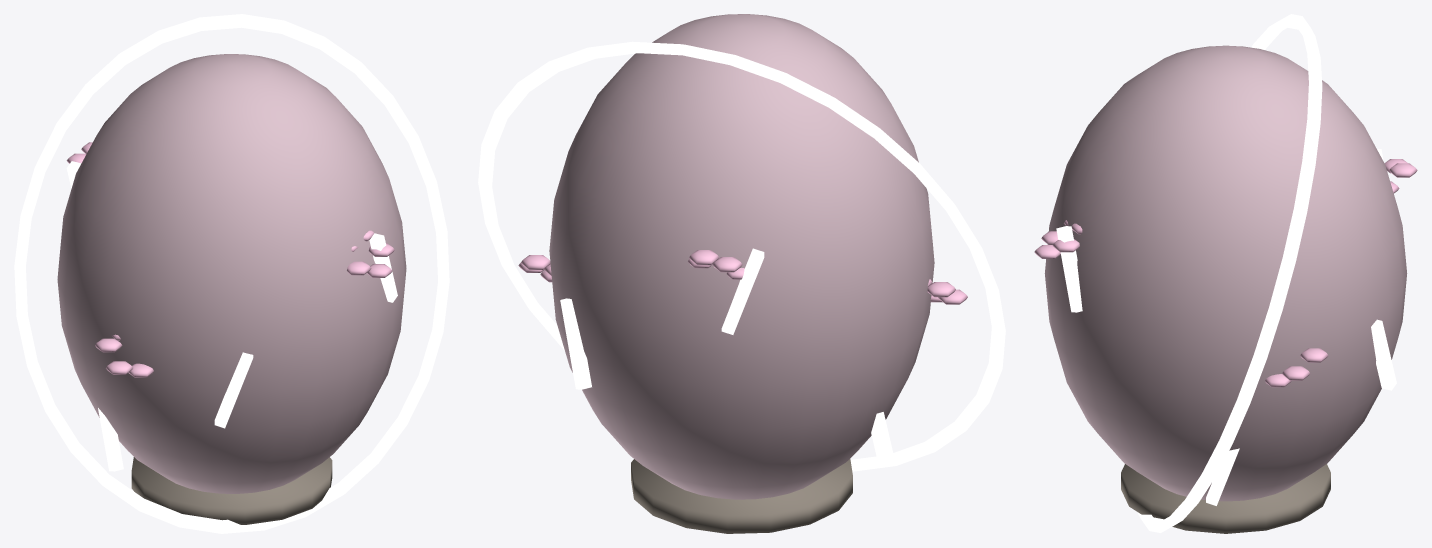
The model's file is egg_blossom_10.glb.
3 renders of one model, left to right at view 1: azimuth 30°, elevation 25°; view 2: azimuth 150°, elevation 25°; view 3: azimuth 270°, elevation 25°, orthographic. The views are drawn at different scales.
Parts seen in each view (by area): view 1: ball; view 2: ball; view 3: ball.
Part boxes in pixels (x1,y1,x2,y2): ball: [14, 14, 449, 533]; ball: [478, 14, 1005, 533]; ball: [1034, 14, 1417, 533].
Size of the model in its own units: 1.12 by 1.06 by 0.8038.
